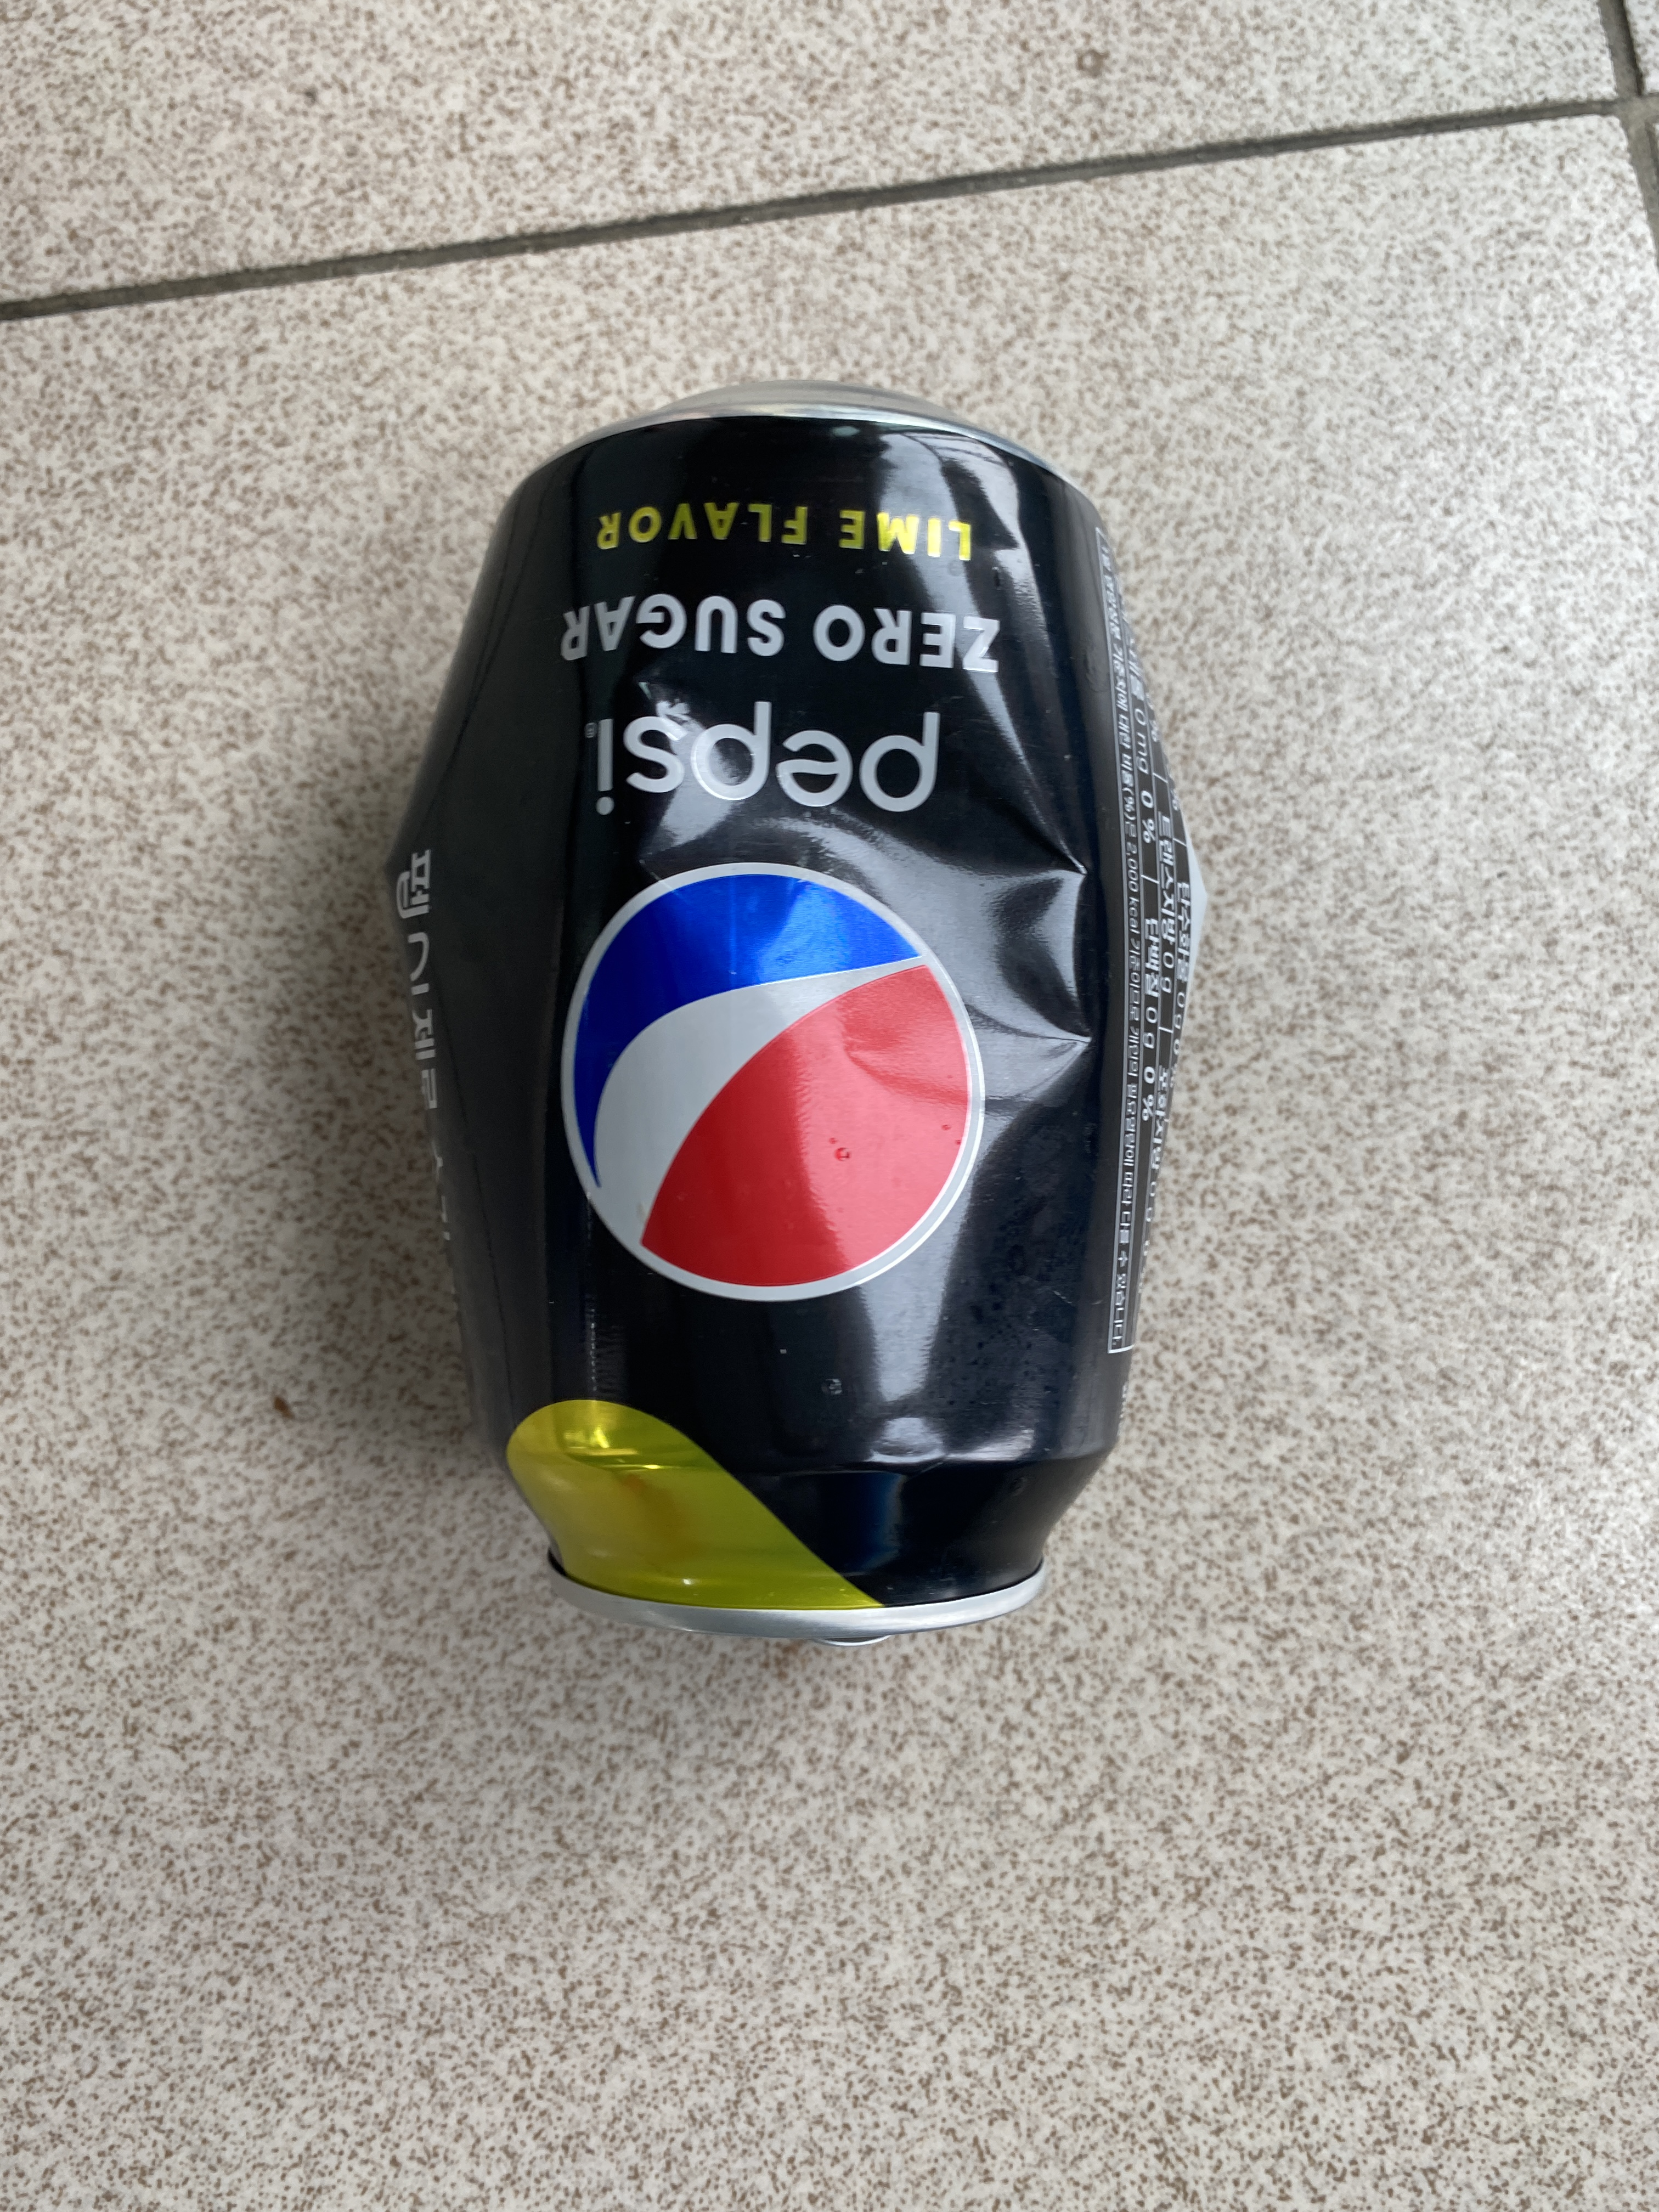metal: (347, 357, 1253, 1689)
